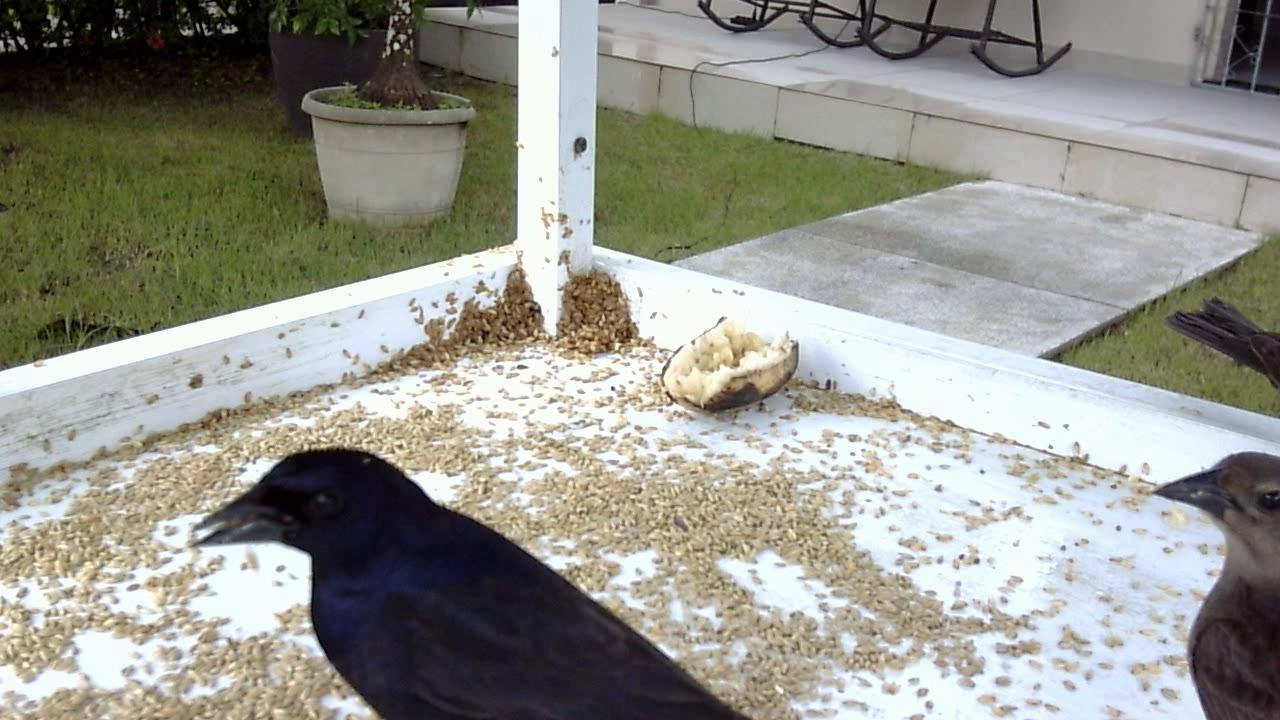chupim: (181, 444, 767, 715), (1139, 430, 1280, 720)
